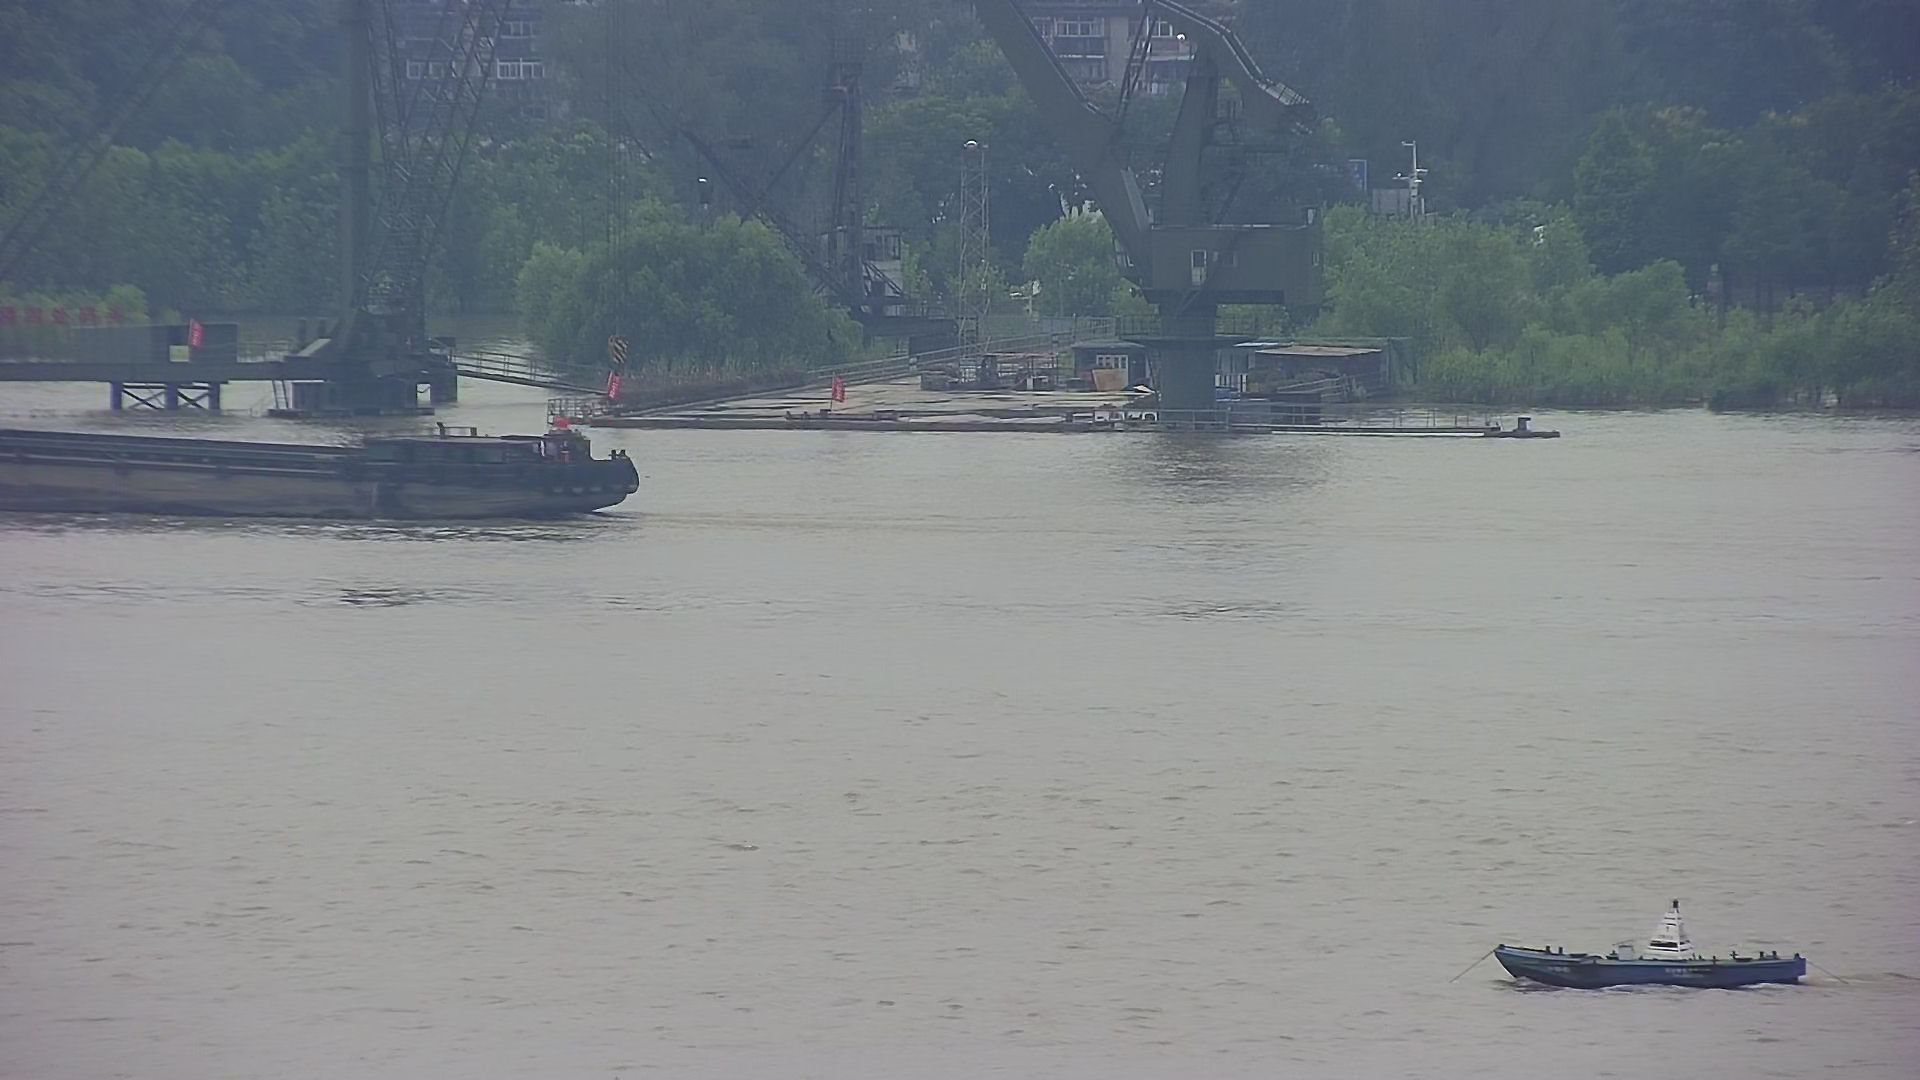boat: (1478, 873, 1826, 1004)
platform: (1, 1, 487, 425)
ship: (1, 405, 663, 529)
